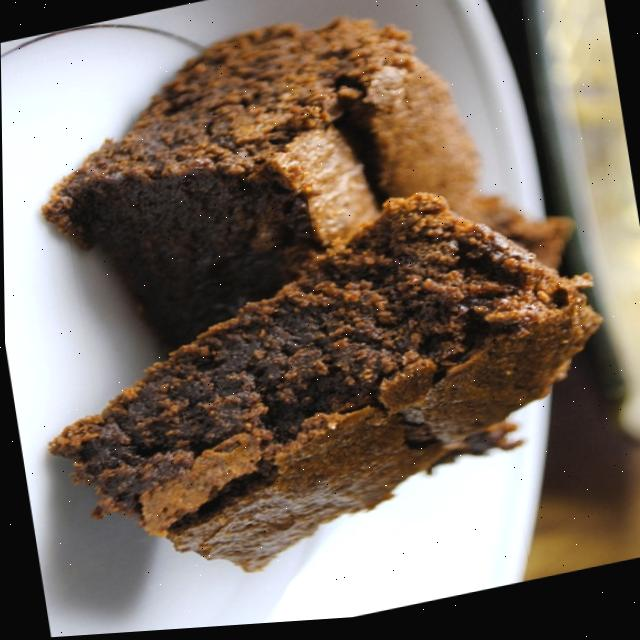蛋糕甜品: (0, 0, 639, 638)
